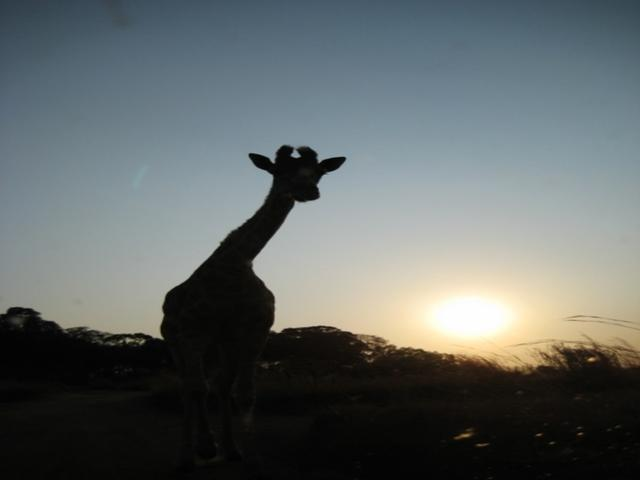giraffe: (125, 120, 358, 429)
